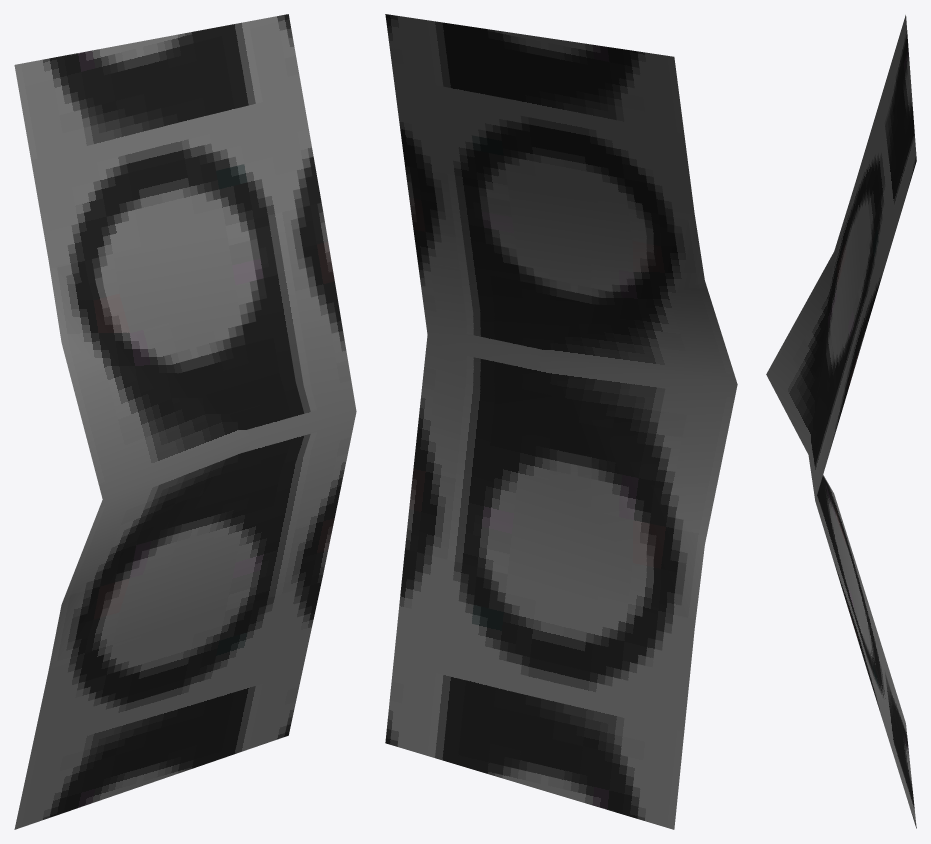
Rendered from acc_mask_hero.dae.
3 views of the same model, side by side, from view 1: azimuth 30°, elevation 25°; view 2: azimuth 150°, elevation 25°; view 3: azimuth 270°, elevation 25° (orthographic). The views are drawn at different scales.
Visible parts, largest first — view 1: acc_mask_hero; view 2: acc_mask_hero; view 3: acc_mask_hero.
Boxes of the visible parts, x1,y1,x2,y2 form: acc_mask_hero: [14, 14, 356, 829]; acc_mask_hero: [385, 14, 737, 829]; acc_mask_hero: [766, 15, 916, 828].
Bounding box in the file's own units: 8.76 × 21.84 × 4.2.
1 material, 1 textured.
